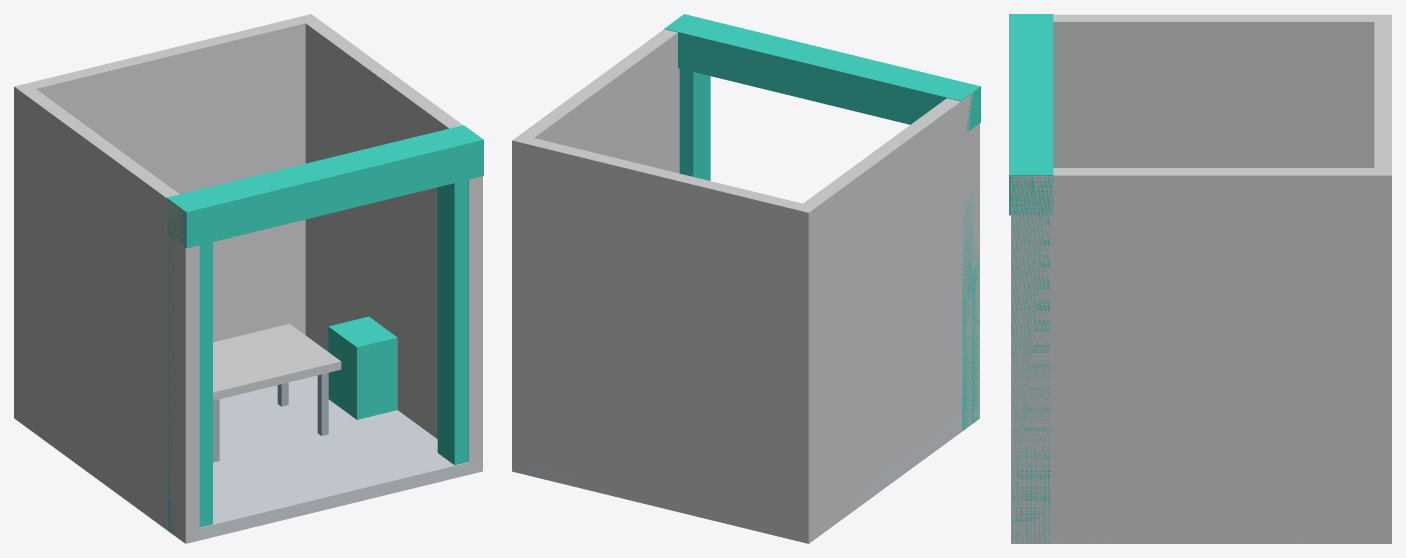
The picture shows the model from 3 angles, left to right: view 1: azimuth 30°, elevation 25°; view 2: azimuth 150°, elevation 25°; view 3: azimuth 270°, elevation 25°; orthographic projection. The views are drawn at different scales.
Visible parts, largest first — view 1: Exhibition Booth Concept; view 2: Exhibition Booth Concept; view 3: Exhibition Booth Concept.
Part boxes in pixels (<box>): Exhibition Booth Concept: <box>14,14,483,543</box>; Exhibition Booth Concept: <box>512,14,980,543</box>; Exhibition Booth Concept: <box>1009,14,1391,543</box>.
Bounding box in the file's own units: 3 × 3.2 × 3.01.
